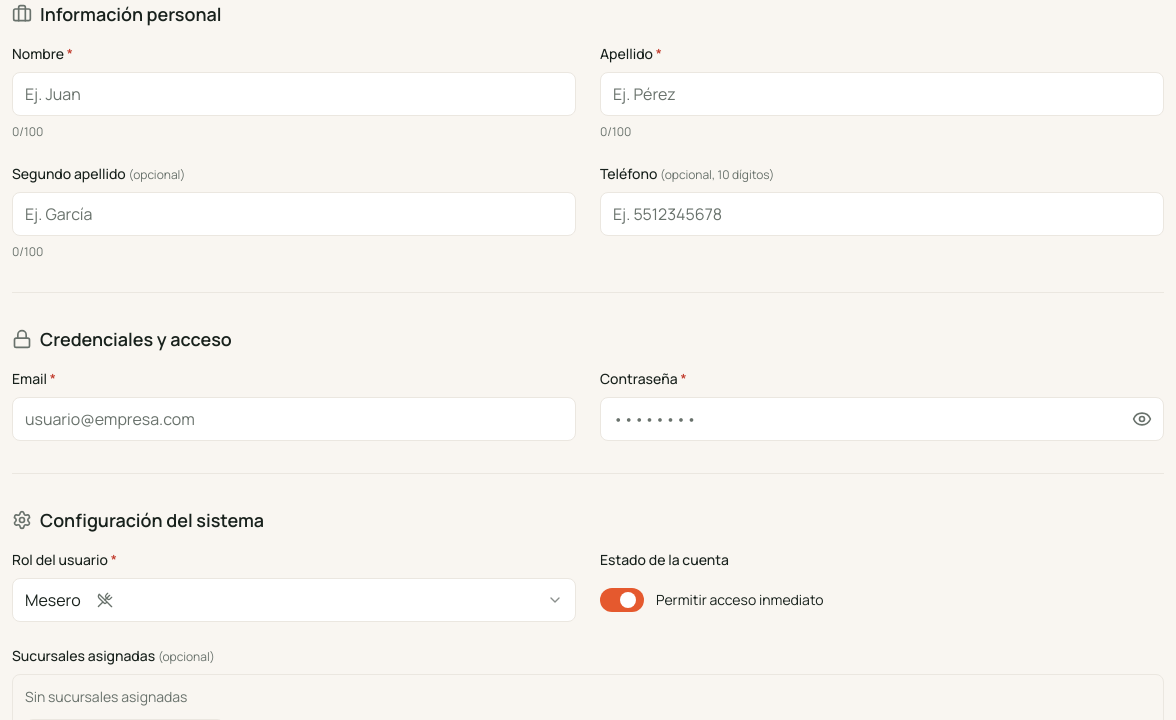
Test: UserForm › validación: creación › muestra error cuando nombre está vacío
The image size is (1176, 720).
Clear the field labelled "Nombre *" at point(294, 94), box [12, 72, 576, 116]
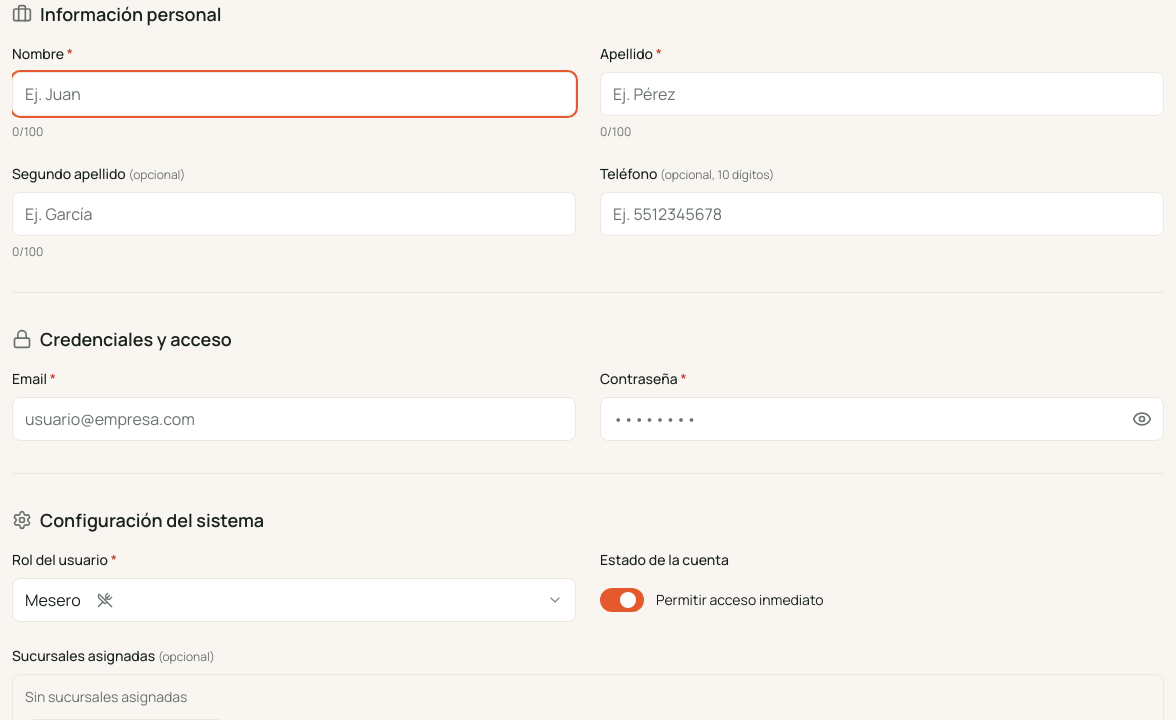
Type "Pérez" into the field labelled "Apellido *" at point(882, 94), box [600, 72, 1164, 116]
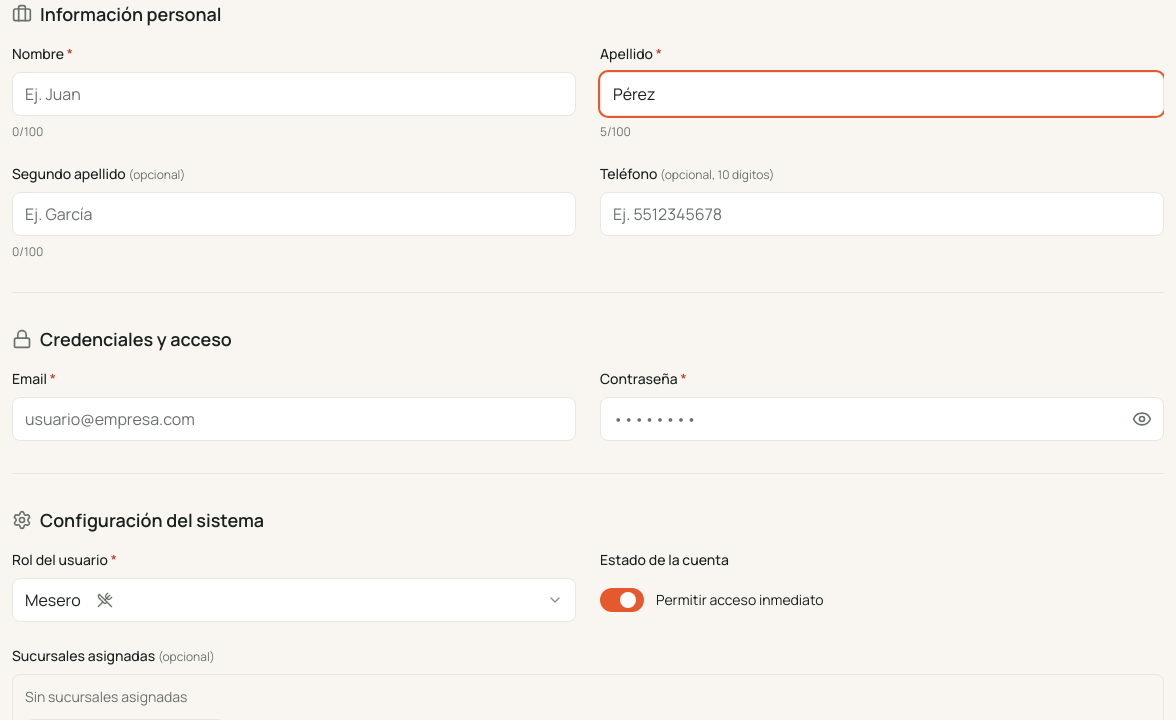
Type "juan@test.com" into the field labelled "Email *" at point(294, 419), box [12, 397, 576, 441]
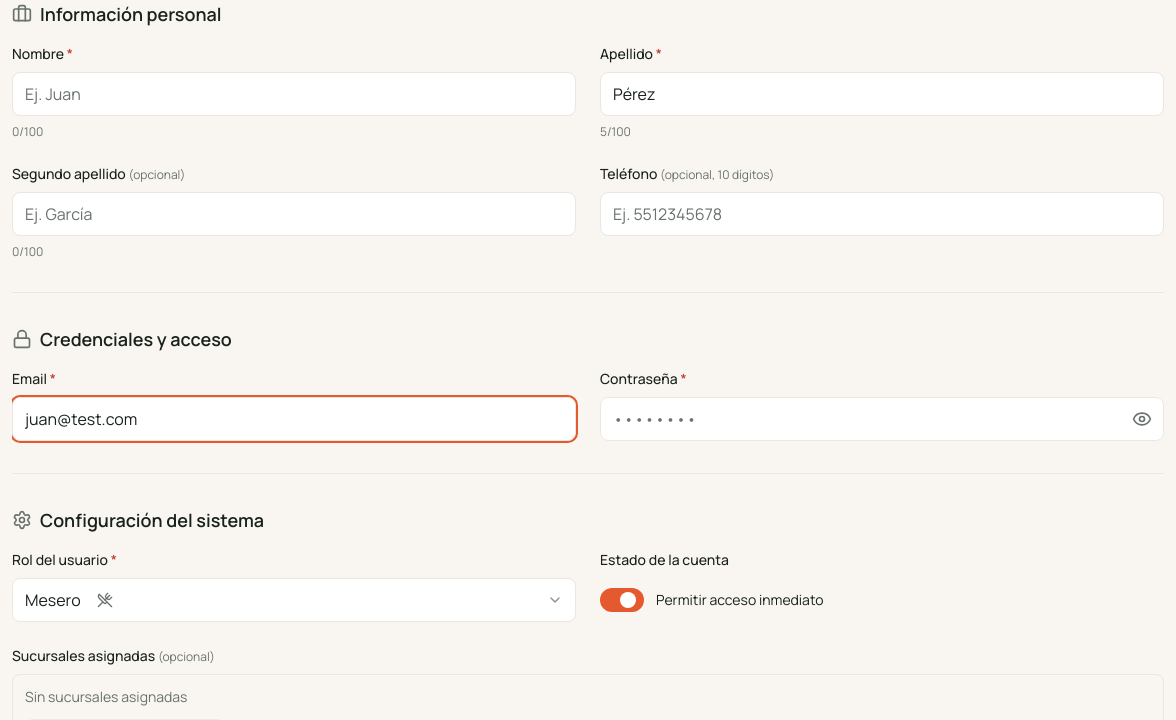
Type "Password123!" into the password field labelled "Contraseña *" at point(882, 419), box [600, 397, 1164, 441]
(page scrolled)
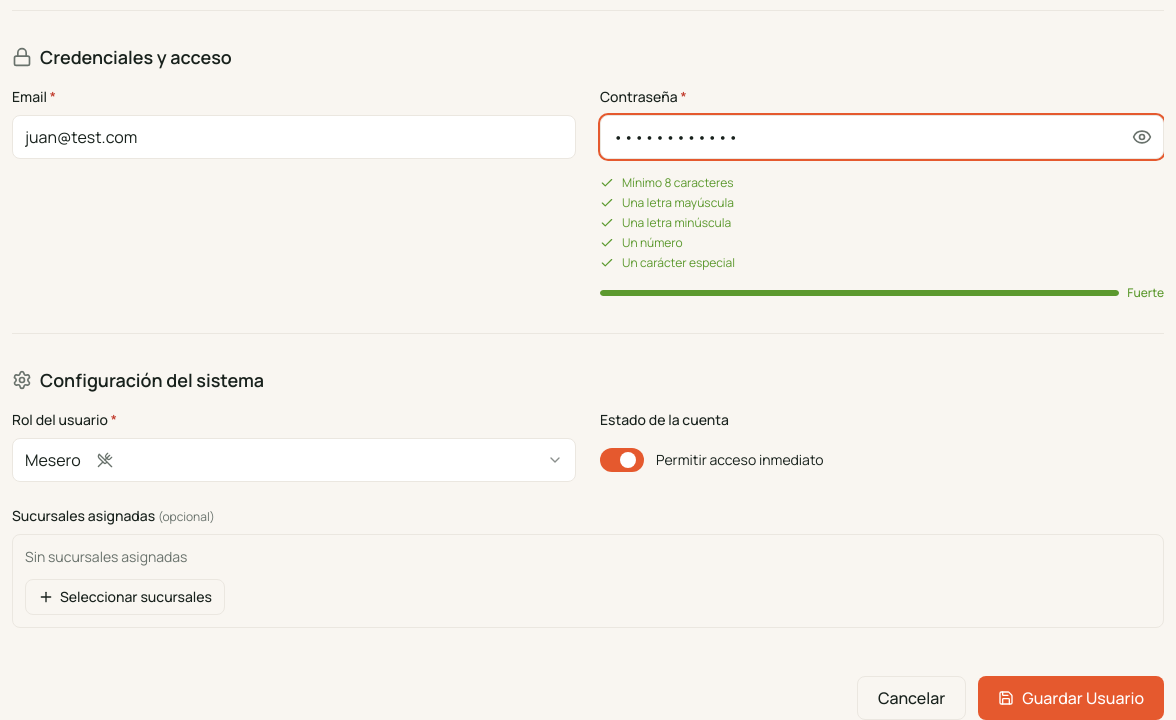
Click the button "Guardar Usuario" at point(1071, 698), box [978, 676, 1164, 719]
(page scrolled)
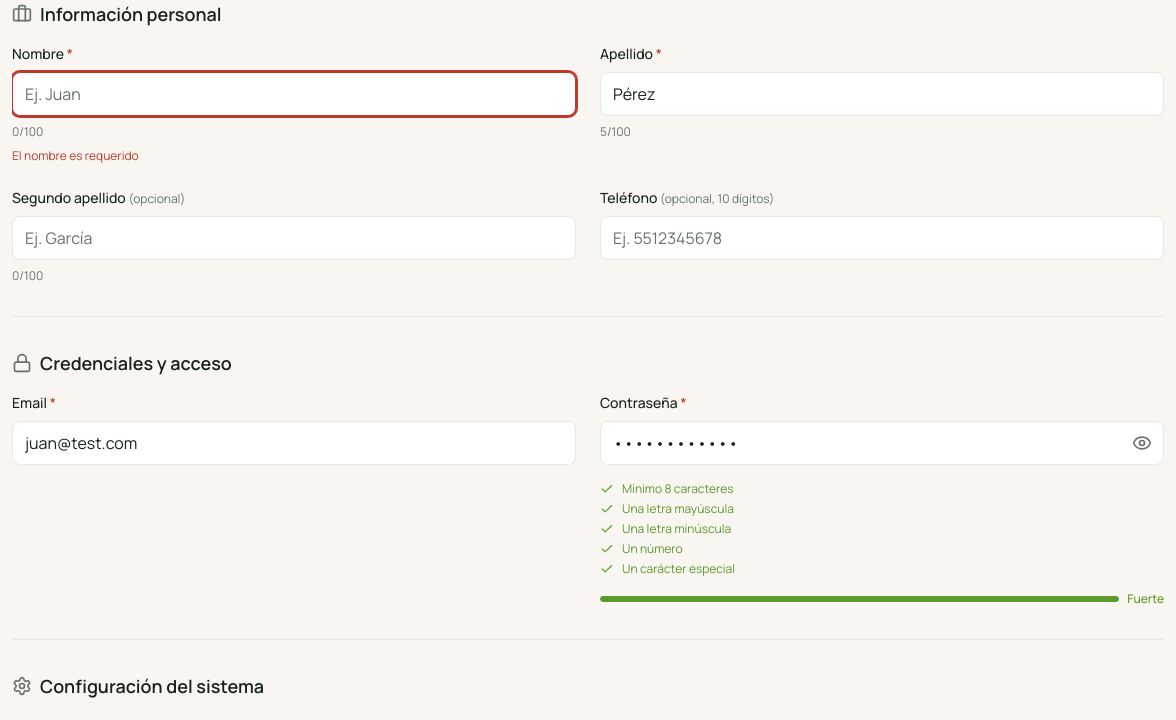
Result: the text "El nombre es requerido" is shown at [12, 147, 139, 164]
